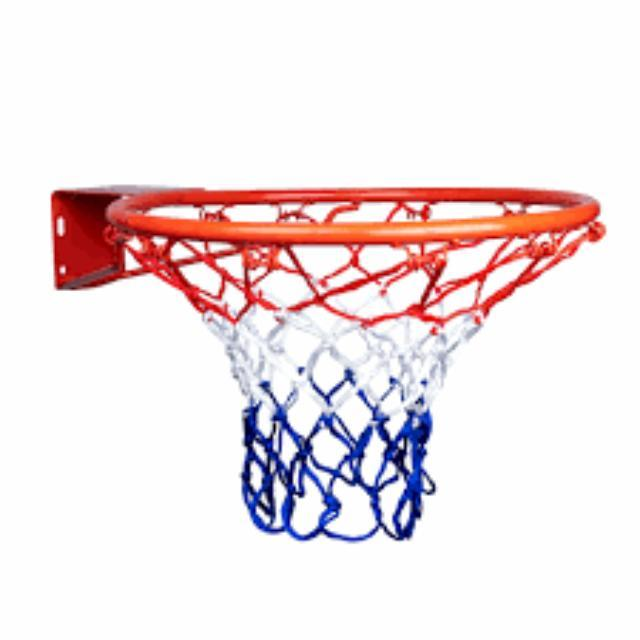rim: (107, 186, 606, 540)
